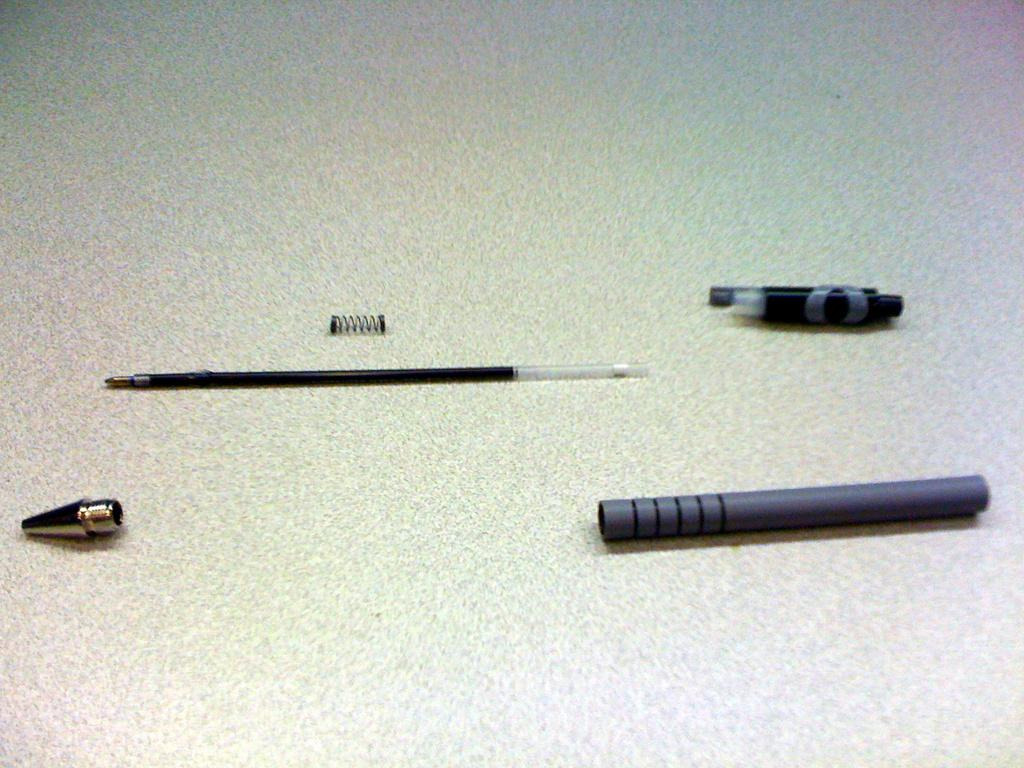pen: (103, 370, 646, 387)
